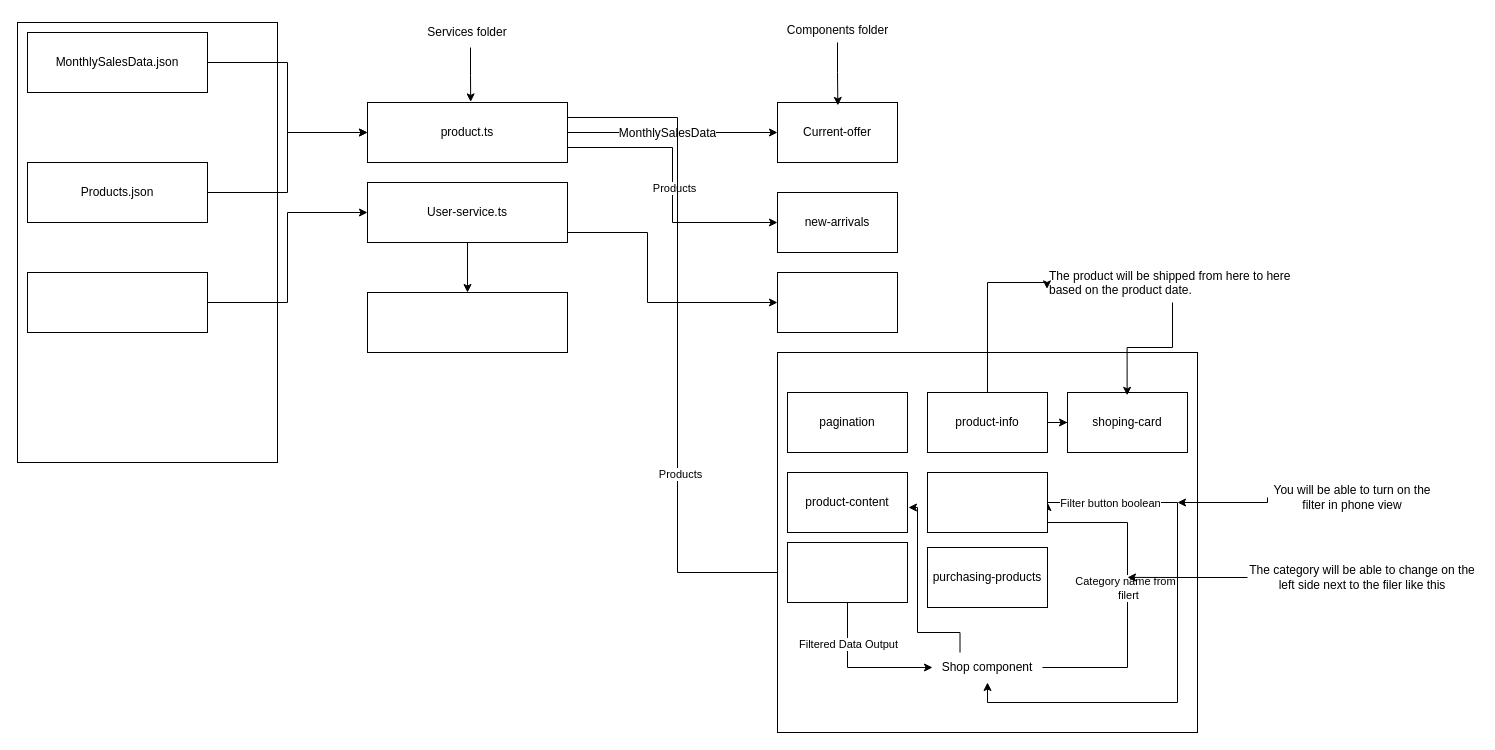
Image size: 1495x750. Some labels were removed from this diagram. The shapes that lost their labels are listed below. From the top down, each one's box as (x1, y1, x2, y2) in pixels, then its label:
(16, 22, 278, 462): Public folder
(26, 272, 208, 332): Users.json
(366, 292, 568, 352): Auth.ts
(776, 272, 898, 332): user-feedback
(926, 472, 1048, 532): product-layout-switcher
(786, 542, 908, 602): product-filter
